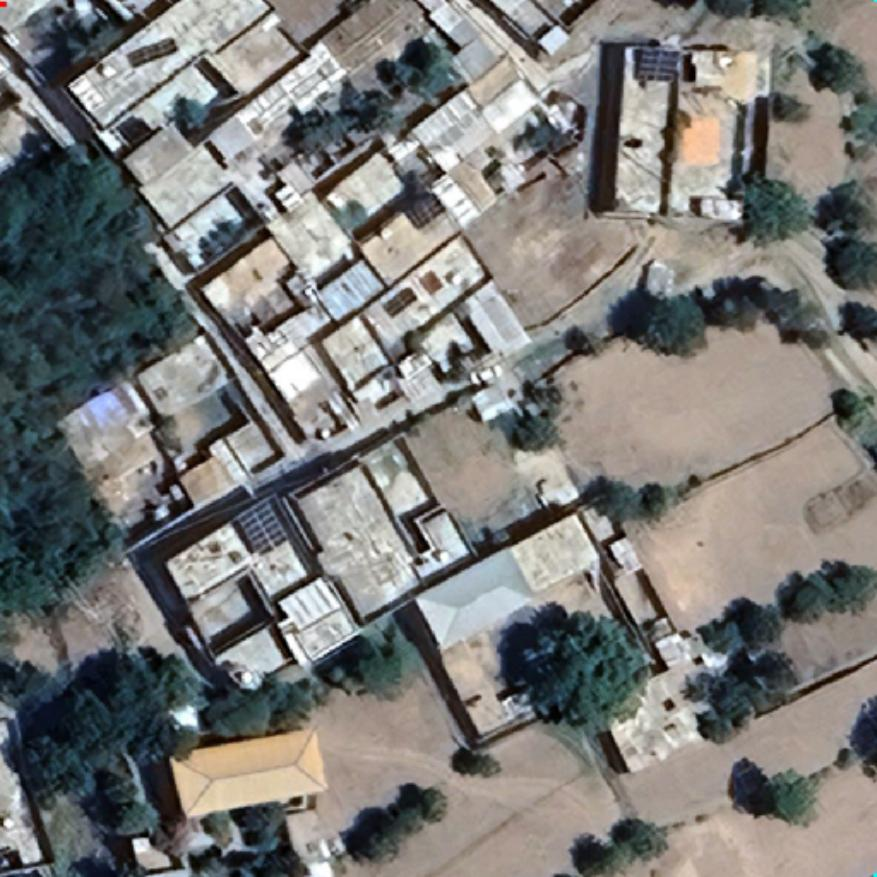Solarpanel: (235, 498, 290, 556), (125, 36, 179, 68), (635, 46, 683, 82), (404, 192, 444, 229), (380, 286, 418, 320)
